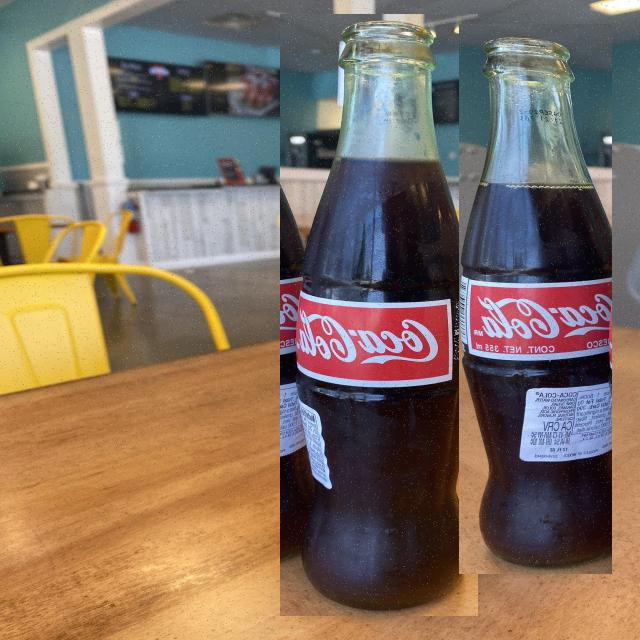coca-cola: (280, 14, 478, 616), (459, 24, 612, 574)
